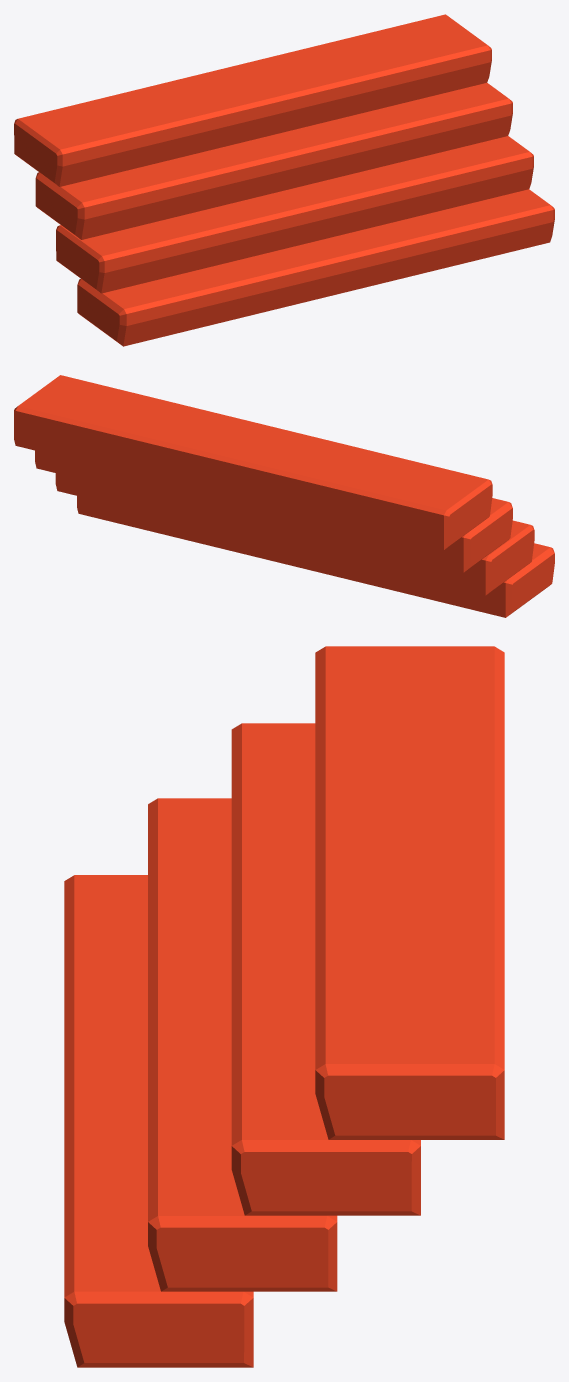
Rendered from SM_Stairs_City.fbx.
3 renders of one model, top to bottom at view 1: azimuth 30°, elevation 25°; view 2: azimuth 150°, elevation 25°; view 3: azimuth 270°, elevation 25°, orthographic. The views are drawn at different scales.
Parts seen in each view (by area): view 1: SM_Stairs_City; view 2: SM_Stairs_City; view 3: SM_Stairs_City.
Boxes of the visible parts, x1,y1,x2,y2 form: SM_Stairs_City: (14,14,554,346); SM_Stairs_City: (14,375,554,617); SM_Stairs_City: (64,646,504,1367).
Bounding box in the file's own units: 3 × 1 × 1.32.
